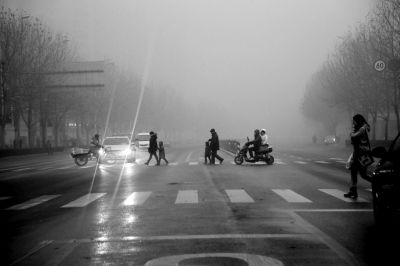person: (343, 113, 376, 200), (142, 130, 159, 166), (207, 128, 224, 164), (245, 128, 263, 158), (88, 132, 102, 164), (155, 140, 169, 165), (202, 141, 212, 164), (257, 128, 269, 147)
